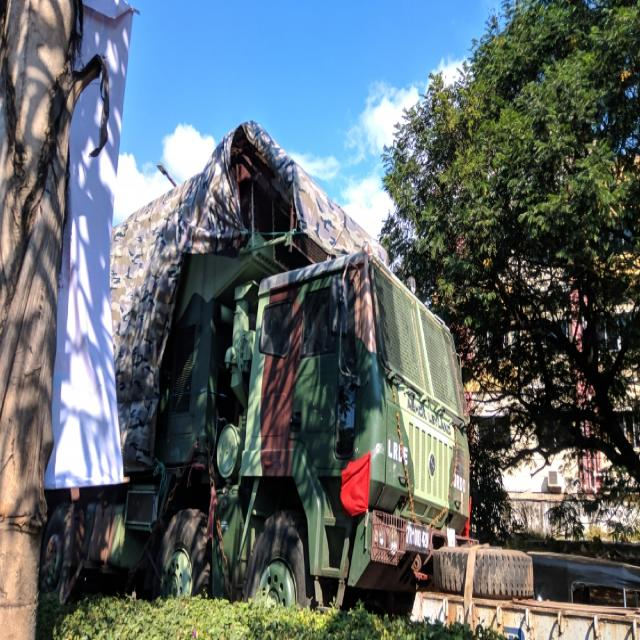truck: (39, 120, 470, 606)
